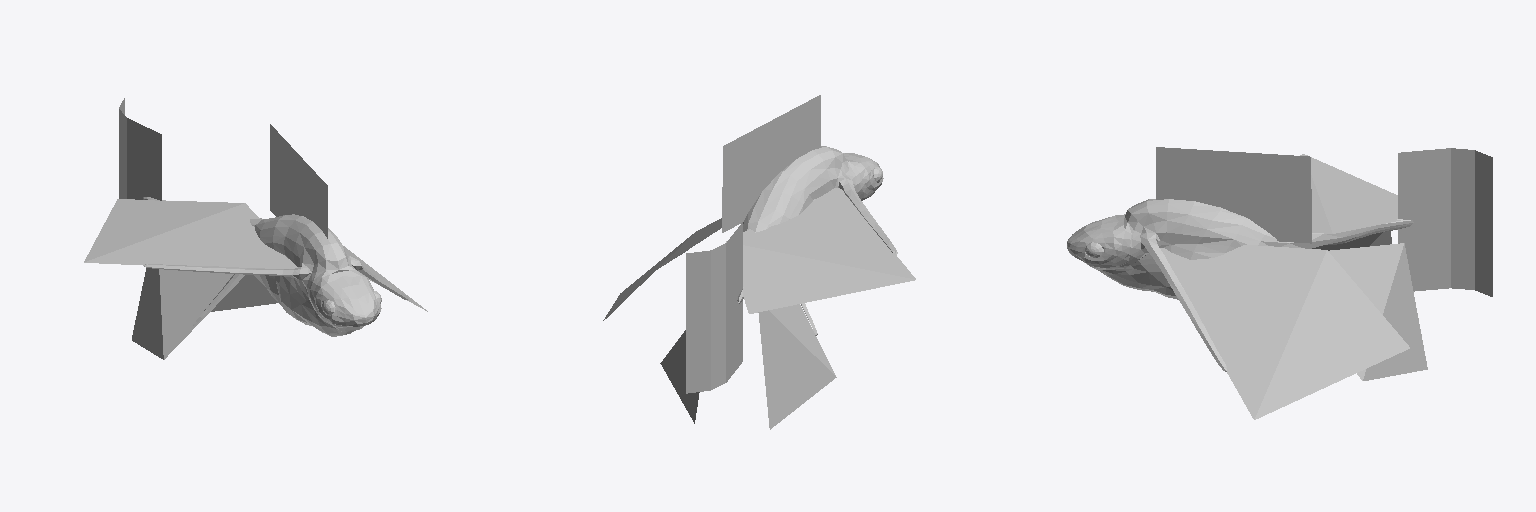
File: fish_000011.obj
The picture shows the model from 3 angles: view 1: azimuth 30°, elevation 25°; view 2: azimuth 150°, elevation 25°; view 3: azimuth 270°, elevation 25°; orthographic projection.
Parts seen in each view (by area): view 1: flyingFish_low_StingrayPBS1_0; view 2: flyingFish_low_StingrayPBS1_0; view 3: flyingFish_low_StingrayPBS1_0.
Boxes of the visible parts, x1,y1,x2,y2 form: flyingFish_low_StingrayPBS1_0: [84, 98, 427, 359]; flyingFish_low_StingrayPBS1_0: [603, 95, 915, 429]; flyingFish_low_StingrayPBS1_0: [1067, 147, 1492, 419].
Size of the model in its own units: 17.08 by 11.58 by 19.67.